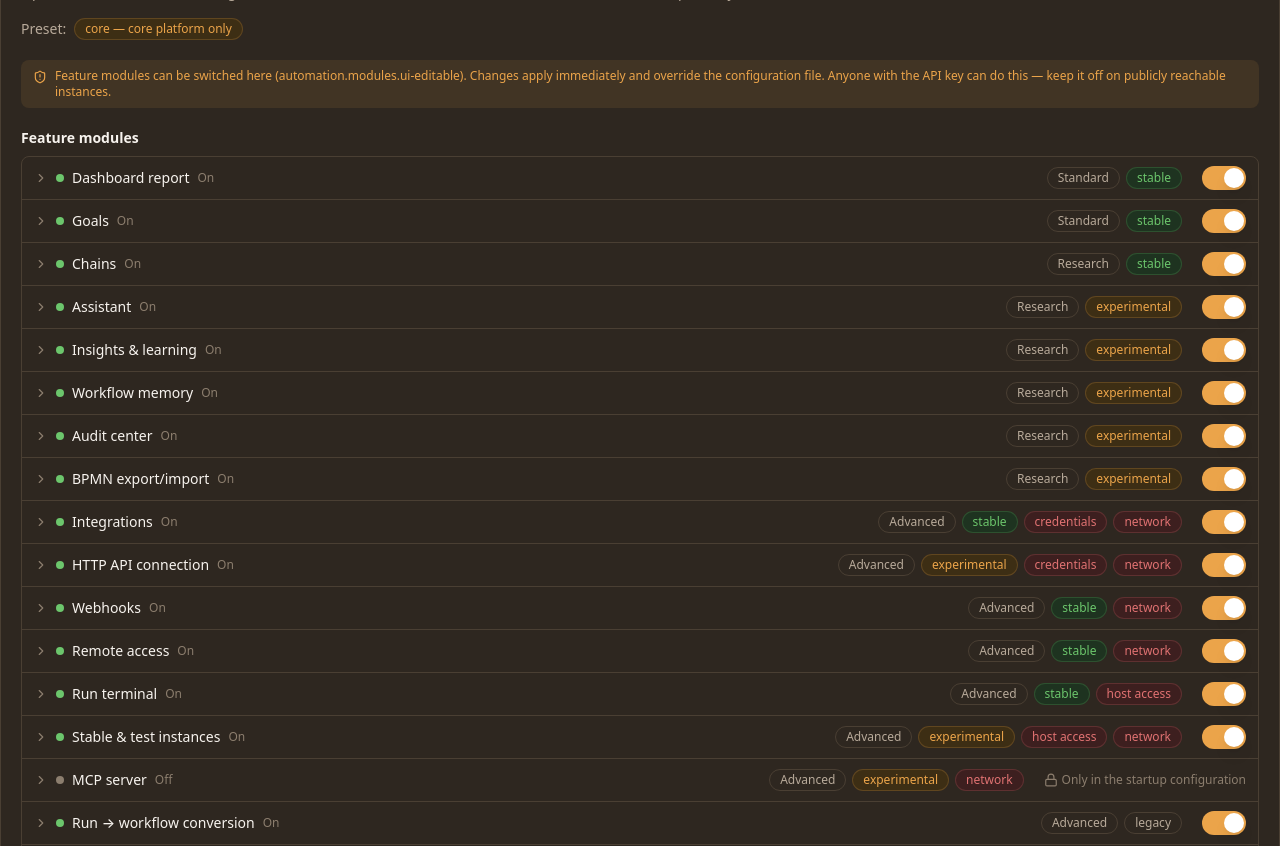
Test: ModulesCard › with automation.modules.ui-editable › gives a startup-only feature module no switch, but a lock and the config snippet
The image size is (1280, 846).
expect the element with test id "module-mcp-startup-only" reads "Only in the startup configuration": met, box [1062, 771, 1246, 788]
expect the switch named "Switch Webhooks" is shown: met, box [1202, 596, 1246, 620]
Click the button "MCP server Off Advanced experimental network" at (109, 780), box [22, 759, 1036, 801]
(page scrolled)
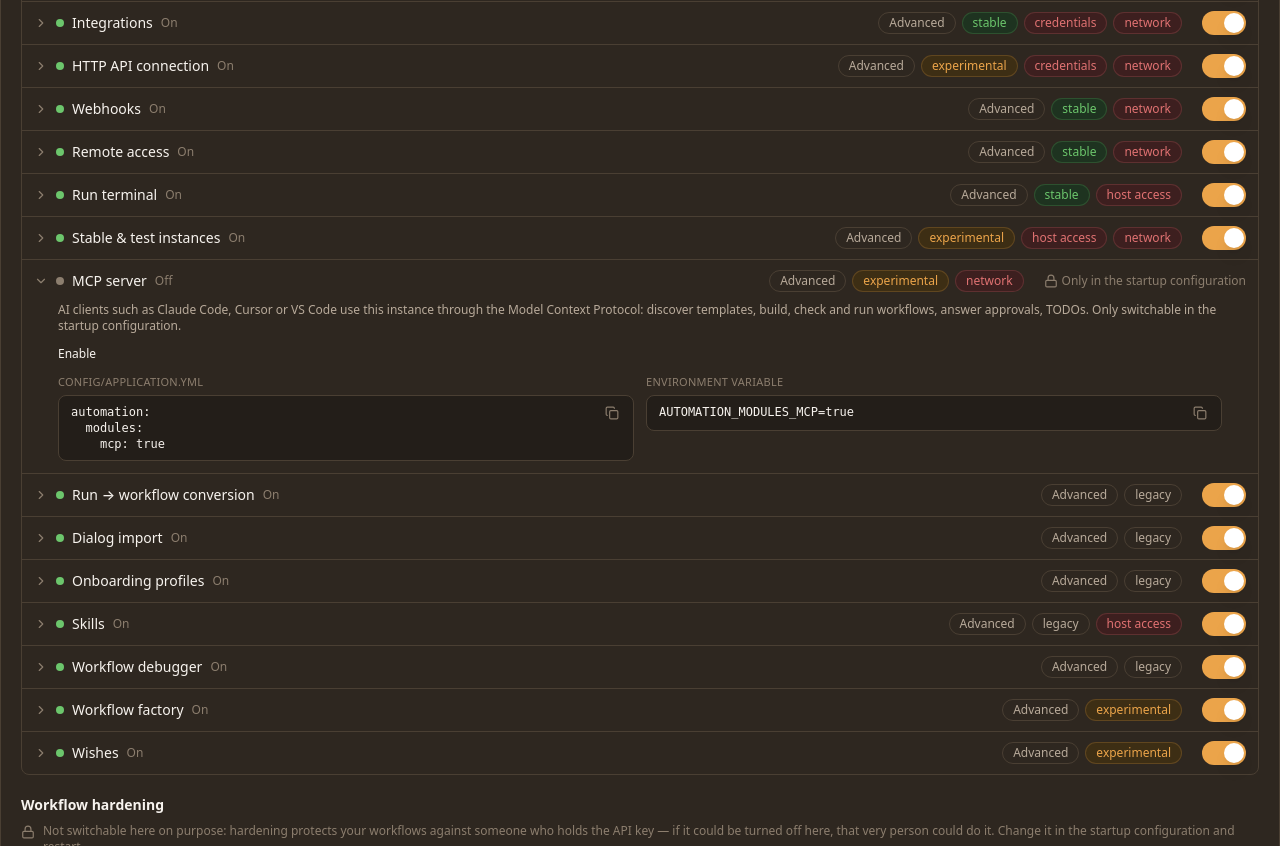
expect the text "Enable" is shown: met, box [58, 345, 96, 362]
expect the text "automation: modules: mcp: true" is shown: met, box [71, 404, 165, 450]
expect the text "AUTOMATION_MODULES_MCP=true" is shown: met, box [659, 404, 854, 418]
